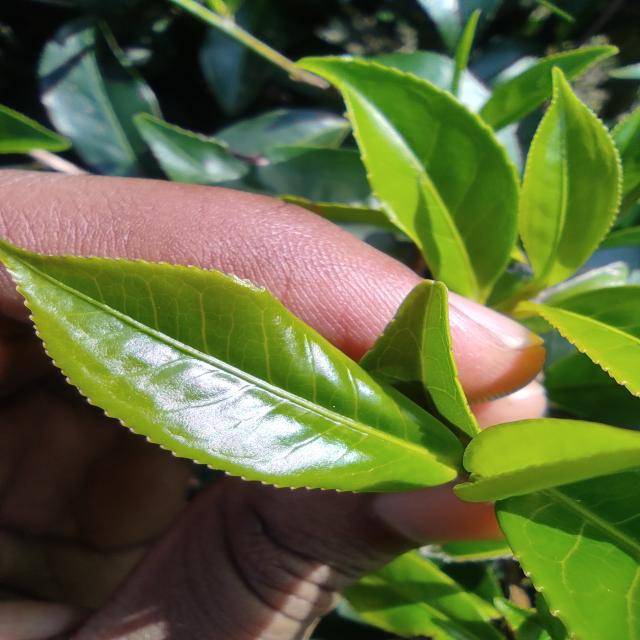Category B(2-4 days): (0, 240, 464, 503)
